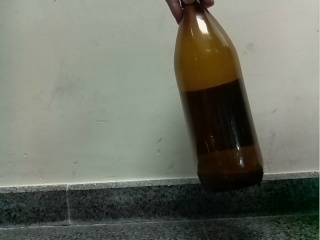pote cristal: (173, 1, 265, 186)
